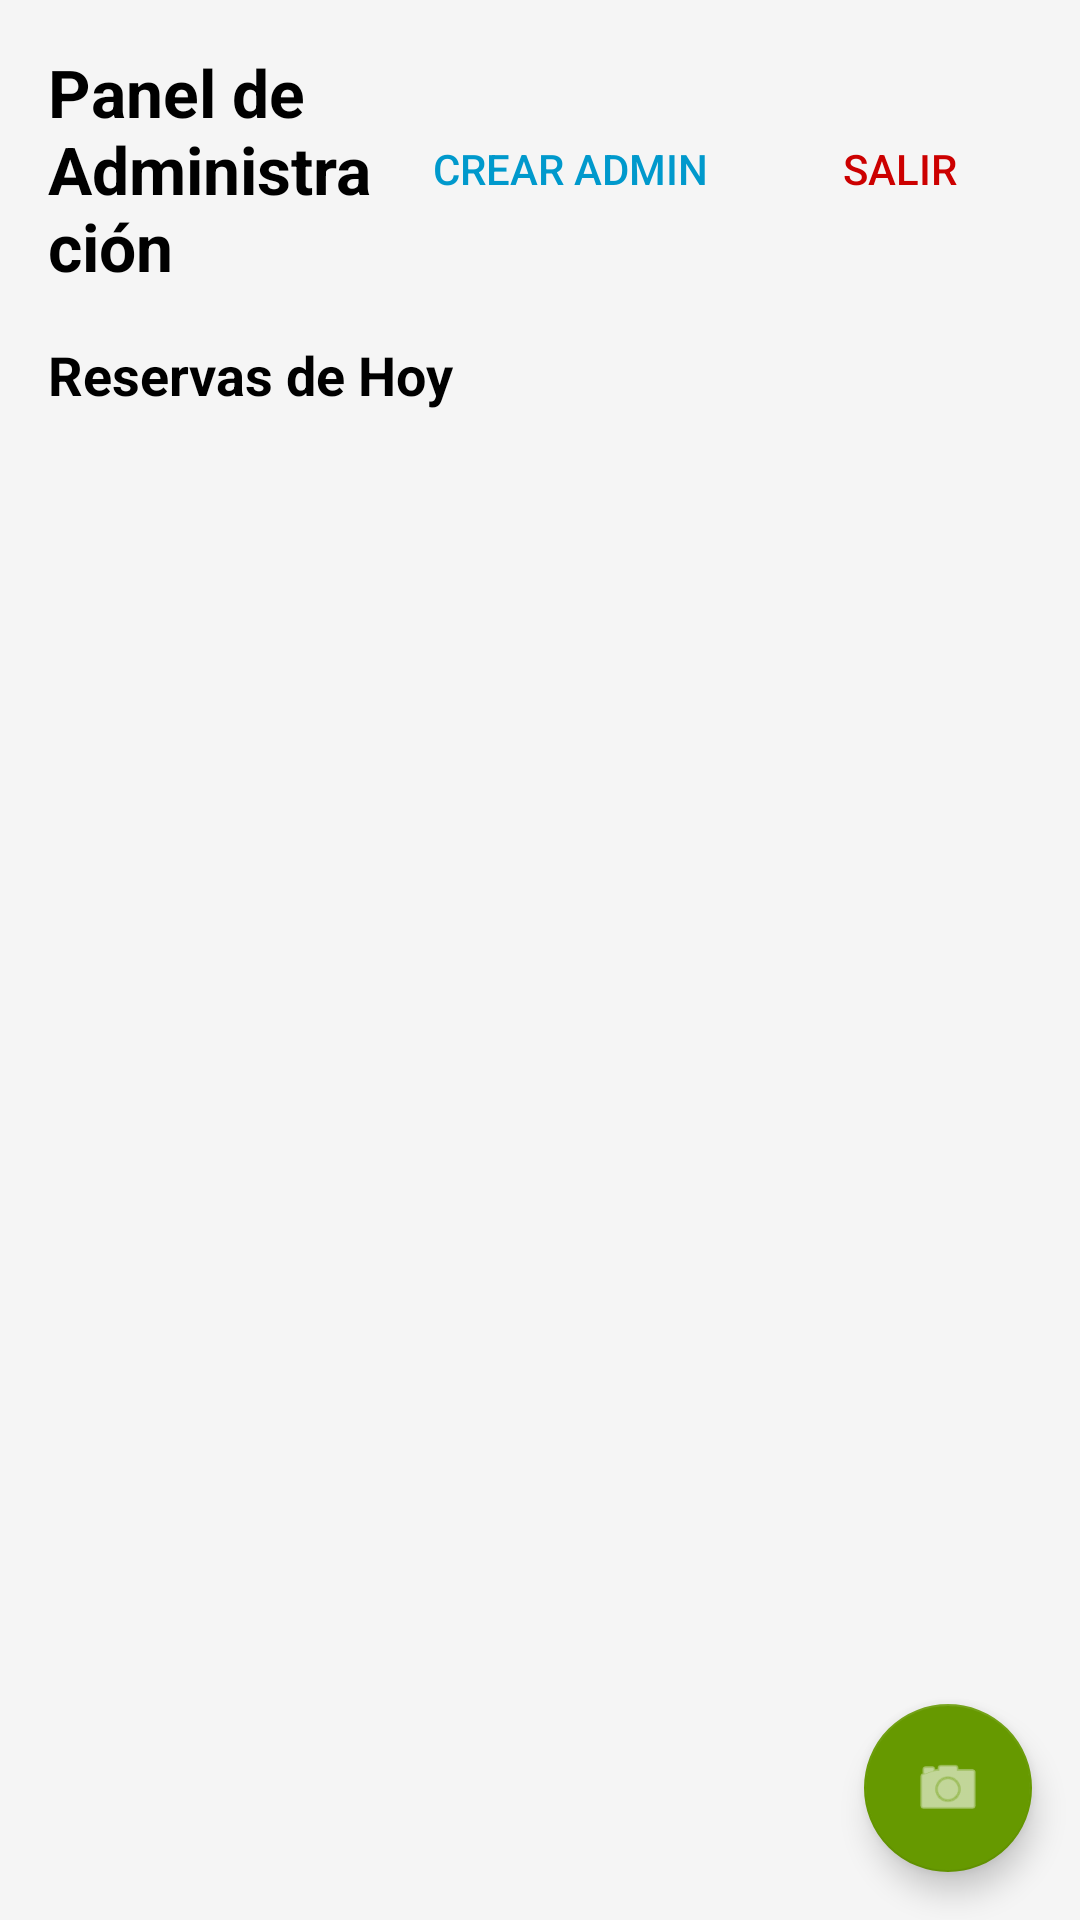

Screen size 1080px×1920px. Icon name, then its box in pixels as (x1, y1, x2, y2):
Escanear QR: (864, 1704, 1032, 1872)
